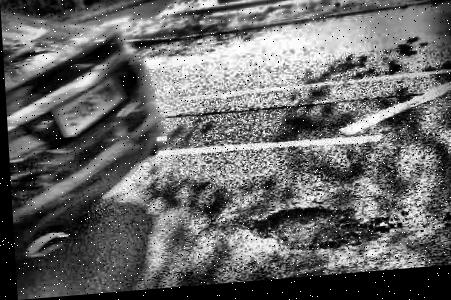pothole: (235, 205, 383, 262)
